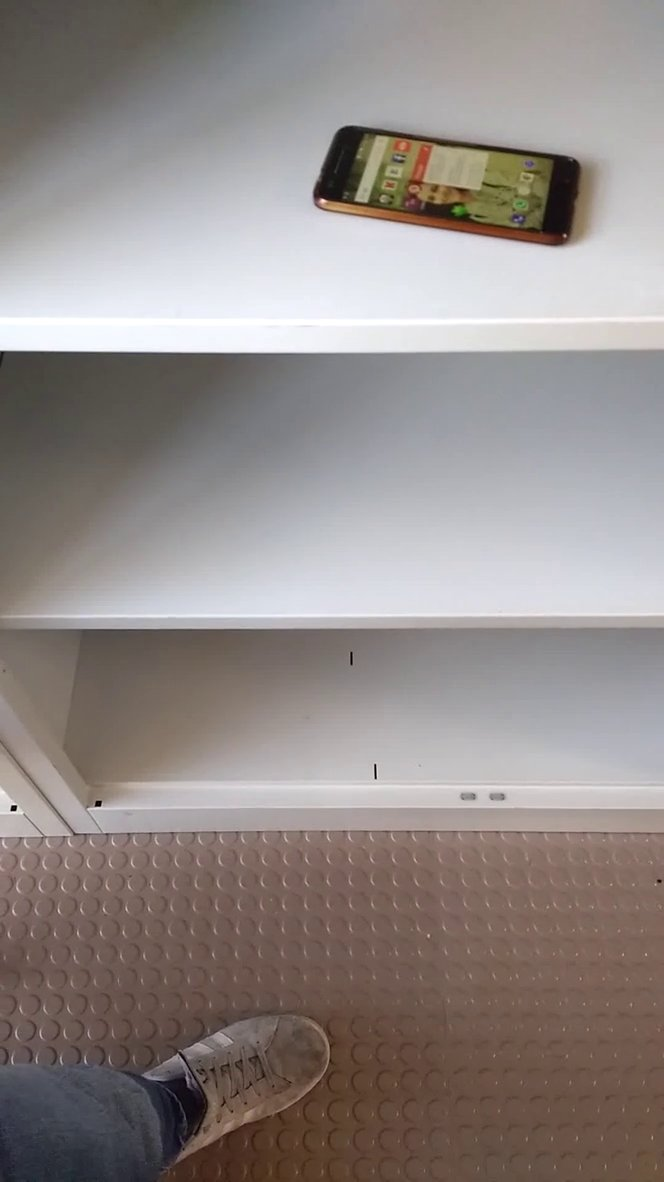phone: (293, 113, 599, 264)
